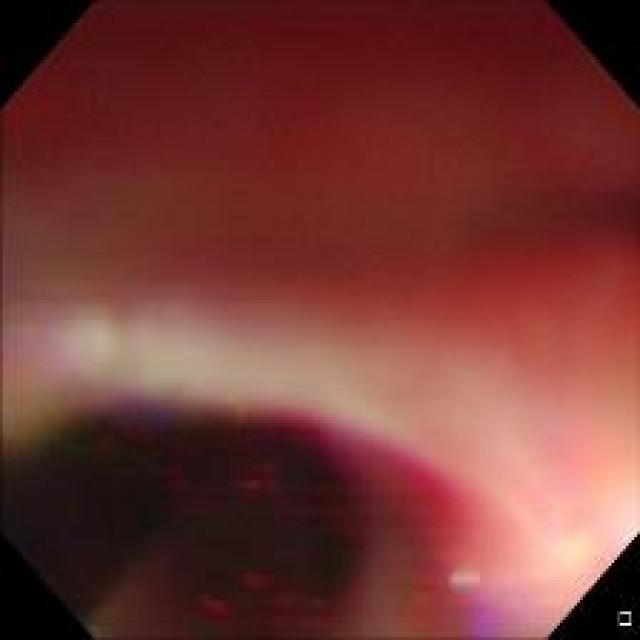color misalignment: (1, 2, 635, 366), (6, 326, 632, 632)
contrast: (14, 401, 380, 616)
instrument: (85, 484, 226, 625)
